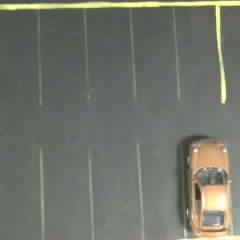Car: (180, 125, 238, 240)
